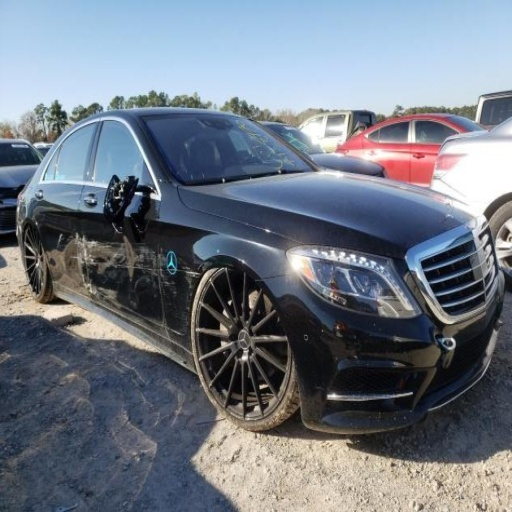dent: (63, 235, 85, 285)
scratch: (65, 231, 181, 282), (183, 260, 207, 316), (91, 257, 157, 272), (75, 272, 102, 301), (156, 266, 203, 279), (181, 255, 195, 293), (161, 279, 179, 300), (175, 308, 190, 333), (56, 231, 64, 251), (316, 385, 328, 391), (321, 329, 324, 337)
